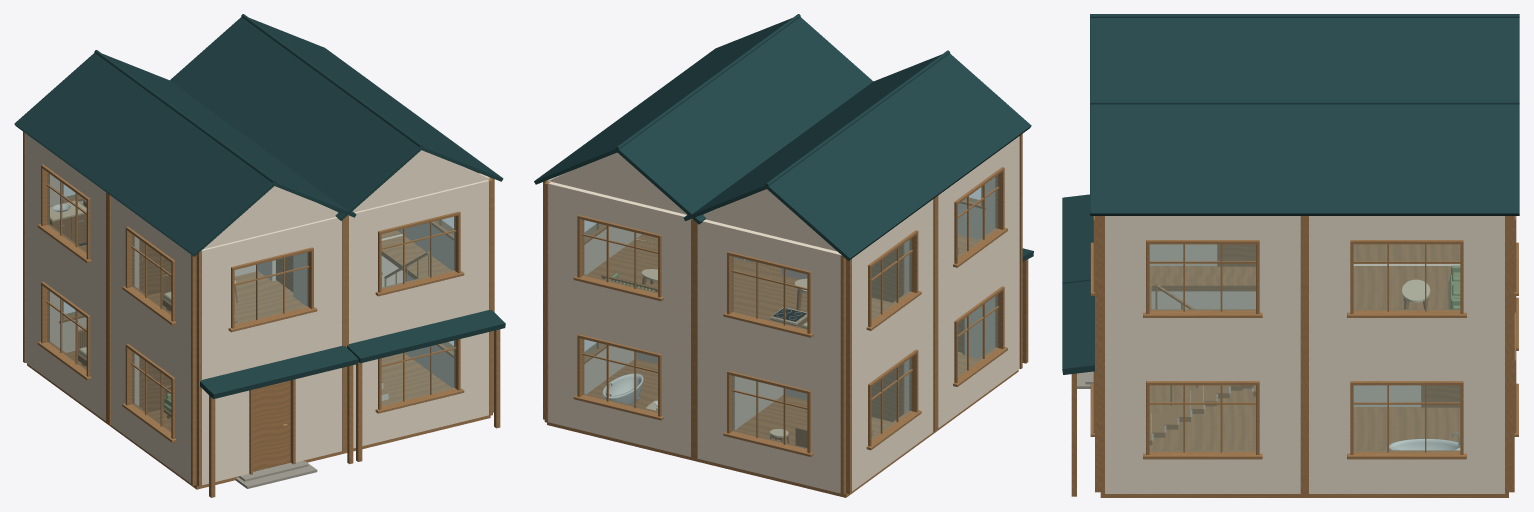
File: res_cozy_townhouse-2a3f927f0d94.glb
3 views of the same model, side by side, from view 1: azimuth 30°, elevation 25°; view 2: azimuth 150°, elevation 25°; view 3: azimuth 270°, elevation 25° (orthographic). The views are drawn at different scales.
Visible parts, largest first — view 1: surface_chalk, surface_deep, surface_oak, surface_Optical_smoke, surface_stone; view 2: surface_chalk, surface_deep, surface_oak, surface_Optical_smoke, surface_porcelain, surface_ivory; view 3: surface_deep, surface_chalk, surface_oak, surface_Optical_smoke, surface_porcelain, surface_ivory.
Boxes of the visible parts, x1,y1,x2,y2 form: surface_chalk: [26, 134, 489, 485]; surface_deep: [14, 14, 505, 398]; surface_oak: [23, 132, 500, 497]; surface_Optical_smoke: [47, 172, 455, 431]; surface_stone: [235, 461, 317, 488]; surface_chalk: [548, 136, 1019, 493]; surface_deep: [534, 14, 1033, 261]; surface_oak: [543, 134, 1028, 497]; surface_Optical_smoke: [583, 175, 997, 448]; surface_porcelain: [602, 373, 657, 407]; surface_ivory: [641, 269, 807, 437]; surface_deep: [1062, 14, 1519, 374]; surface_chalk: [1105, 216, 1504, 493]; surface_oak: [1071, 216, 1518, 497]; surface_Optical_smoke: [1150, 244, 1459, 451]; surface_porcelain: [1389, 438, 1460, 450]; surface_ivory: [1402, 279, 1430, 302].
Size of the model in its own units: 8.46 by 7.66 by 8.96.
15 materials, 4 textured.
